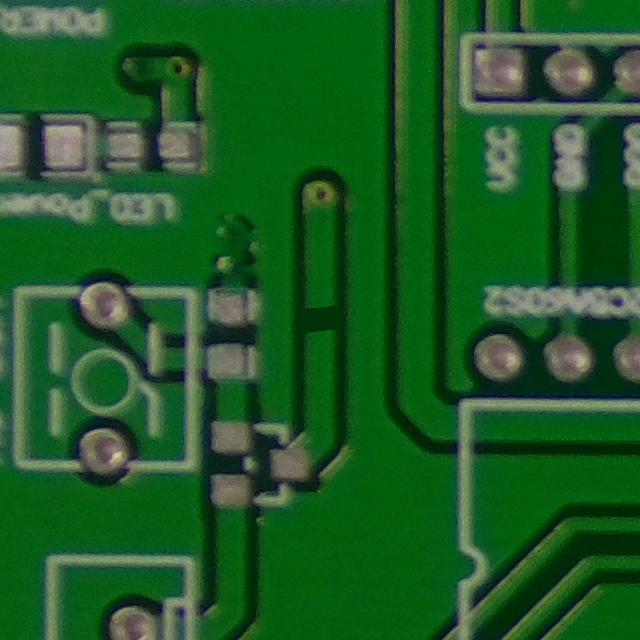open_circuit: (298, 292, 342, 348)
